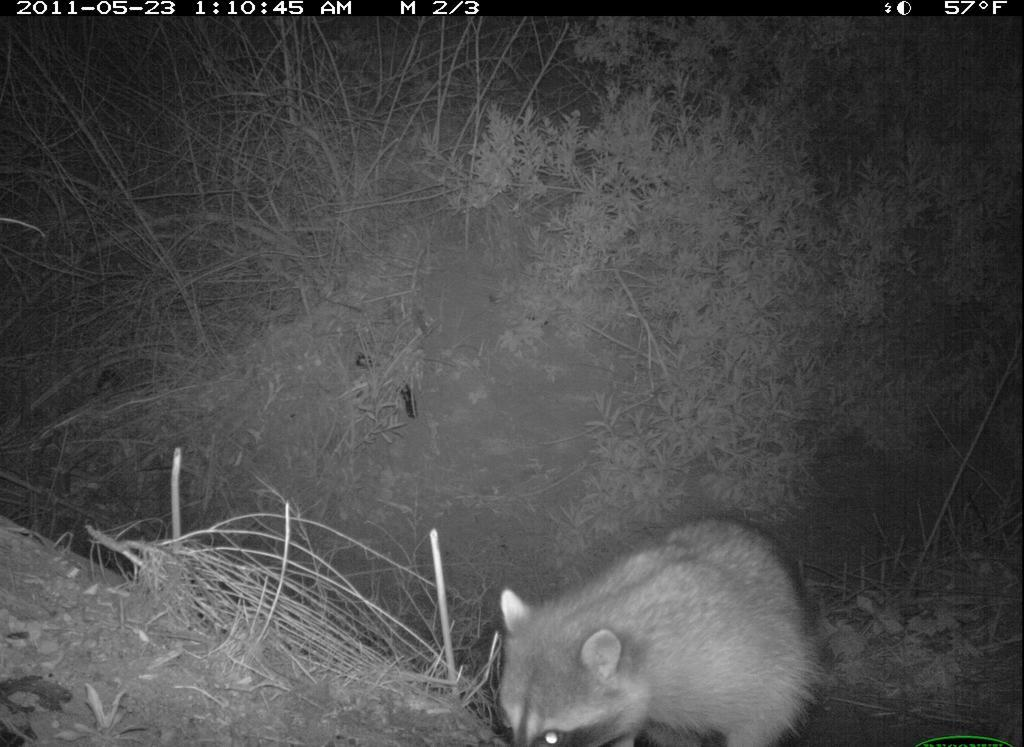raccoon: (496, 514, 822, 747)
